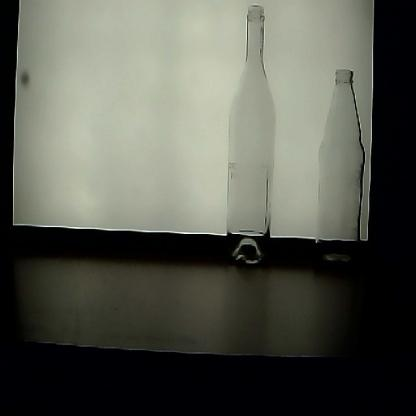Can: (226, 4, 277, 271), (314, 68, 366, 273)
